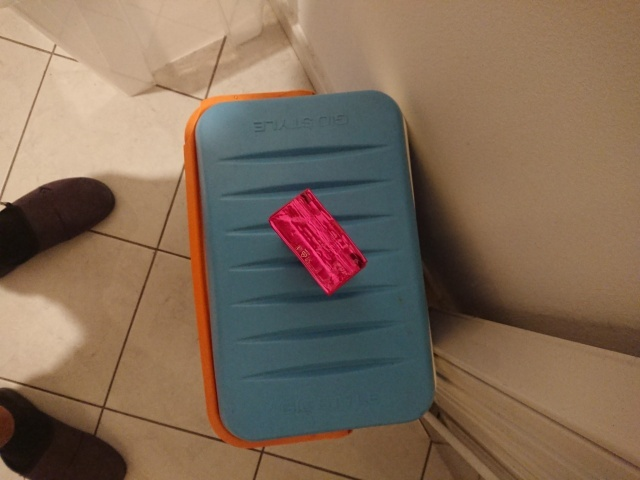Barcaffe Classic Original 225g: (266, 185, 371, 299)
